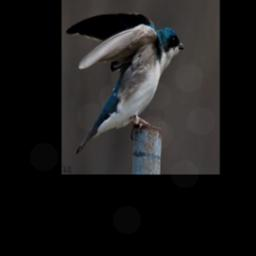Swallow: (65, 8, 186, 157)
